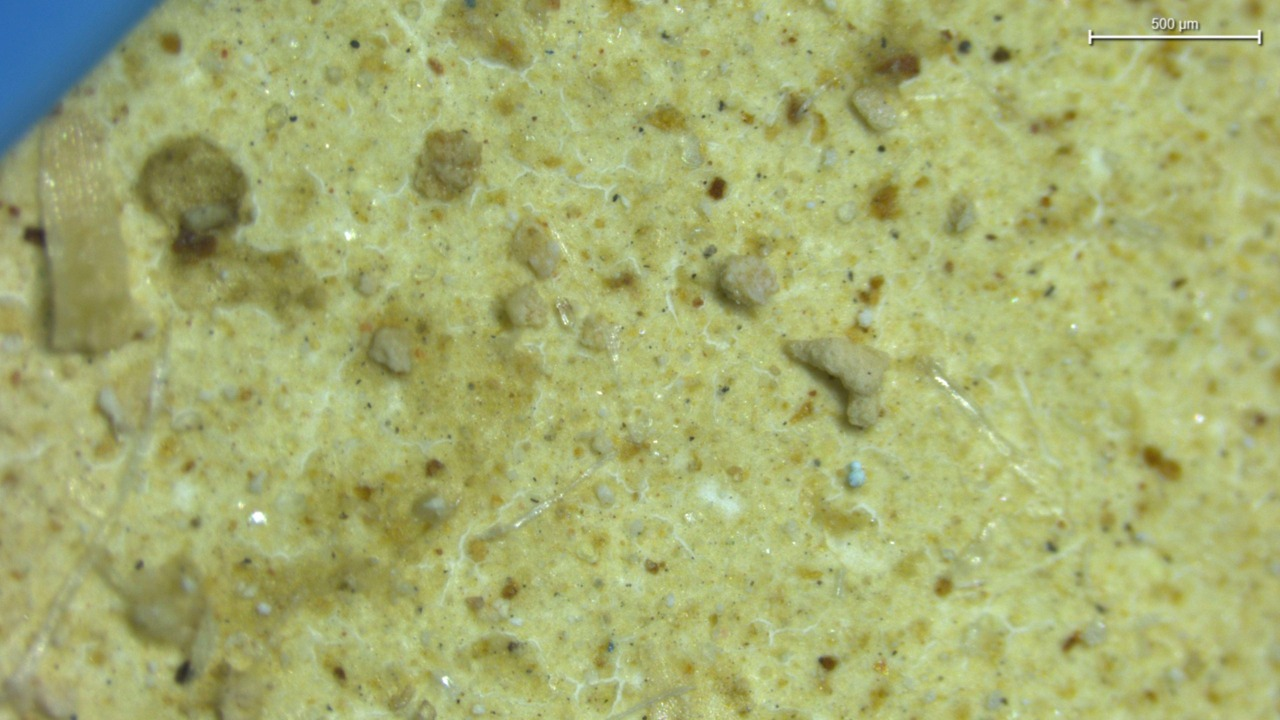microplastic_fragment: (785, 337, 889, 428), (719, 256, 779, 305), (369, 327, 410, 374), (852, 88, 897, 130), (505, 286, 549, 327)
